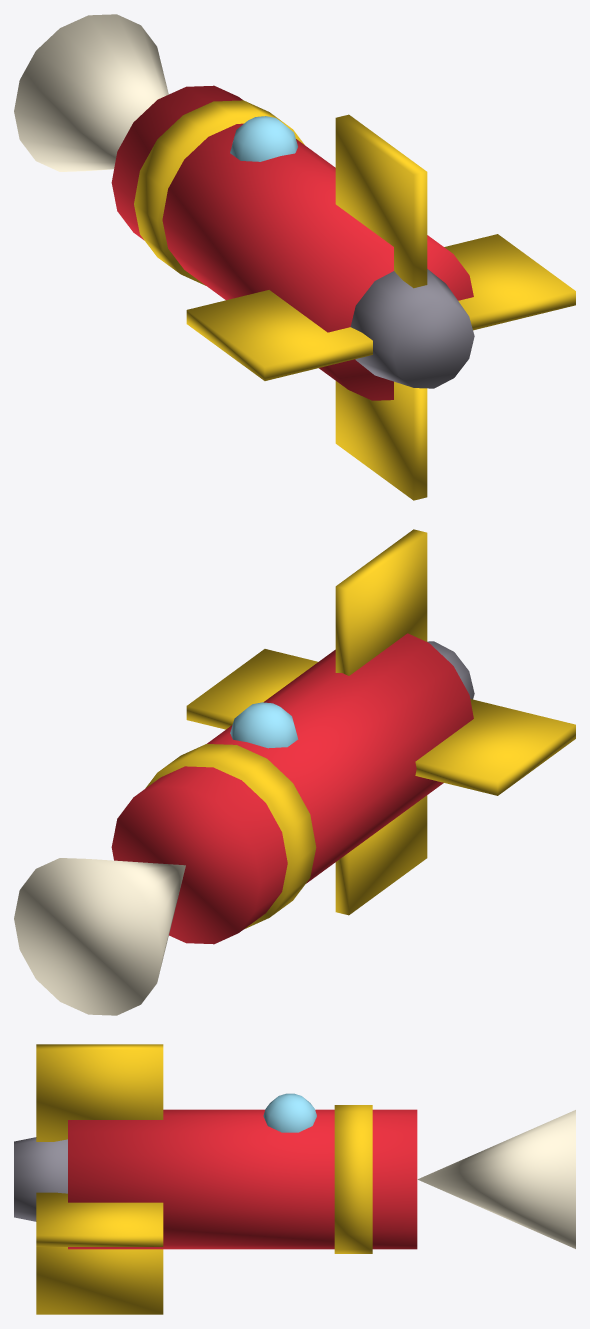
File: rocket.glb
The picture shows the model from 3 angles, top to bottom: view 1: azimuth 30°, elevation 25°; view 2: azimuth 150°, elevation 25°; view 3: azimuth 270°, elevation 25°; orthographic projection. The views are drawn at different scales.
Visible parts, largest first — view 1: rocket_mesh; view 2: rocket_mesh; view 3: rocket_mesh.
Part boxes in pixels (<box>): rocket_mesh: <box>14,14,575,500</box>; rocket_mesh: <box>14,529,575,1015</box>; rocket_mesh: <box>14,1044,575,1314</box>.
Size of the model in its own units: 0.92 by 0.92 by 1.77.
